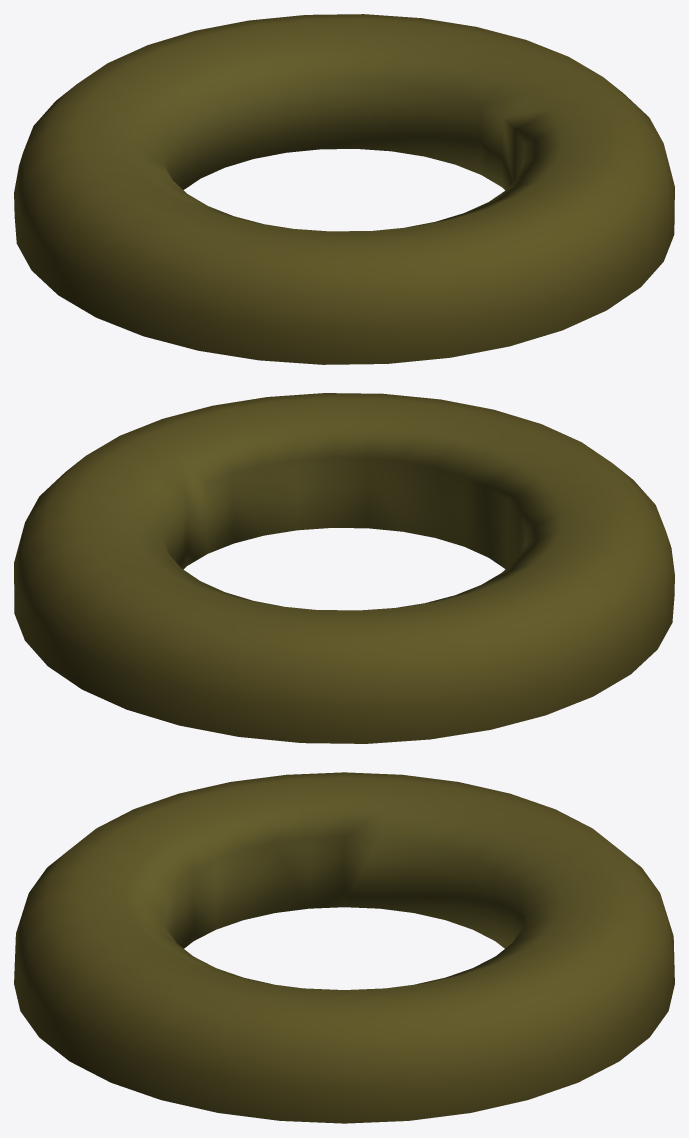
Rendered from The tire is yellow.fbx.
3 renders of one model, top to bottom at view 1: azimuth 30°, elevation 25°; view 2: azimuth 150°, elevation 25°; view 3: azimuth 270°, elevation 25°, orthographic.
Visible parts, largest first — view 1: The tire is yellow; view 2: The tire is yellow; view 3: The tire is yellow.
Part boxes in pixels (x1,y1,x2,y2): The tire is yellow: (14,14,674,364); The tire is yellow: (14,393,674,743); The tire is yellow: (14,772,674,1123).
Size of the model in its own units: 254 by 39.46 by 254.
